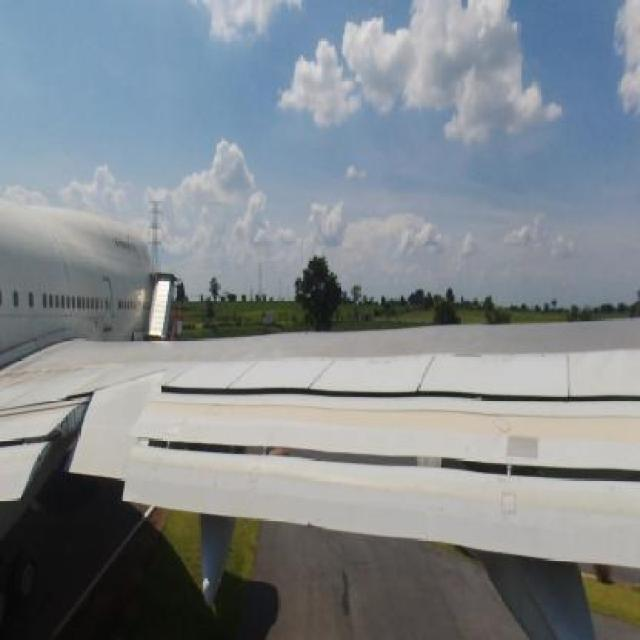Scartch: (3, 362, 77, 396)
